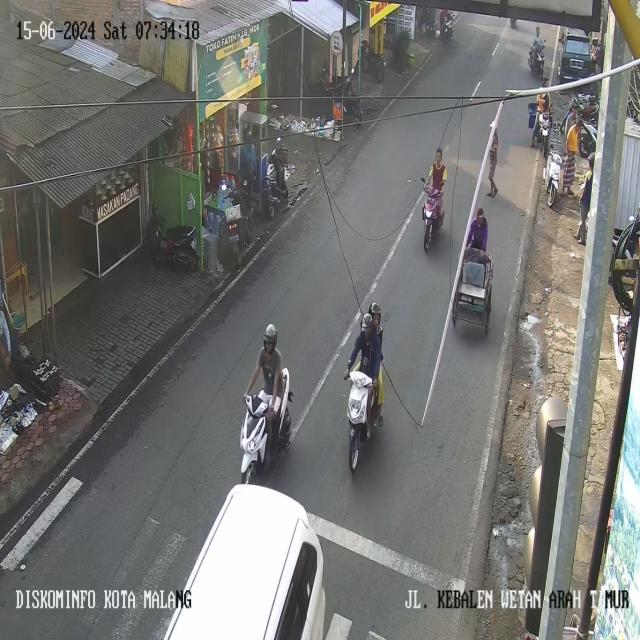Helmet: (264, 324, 276, 346), (361, 313, 372, 330), (369, 302, 381, 315)
